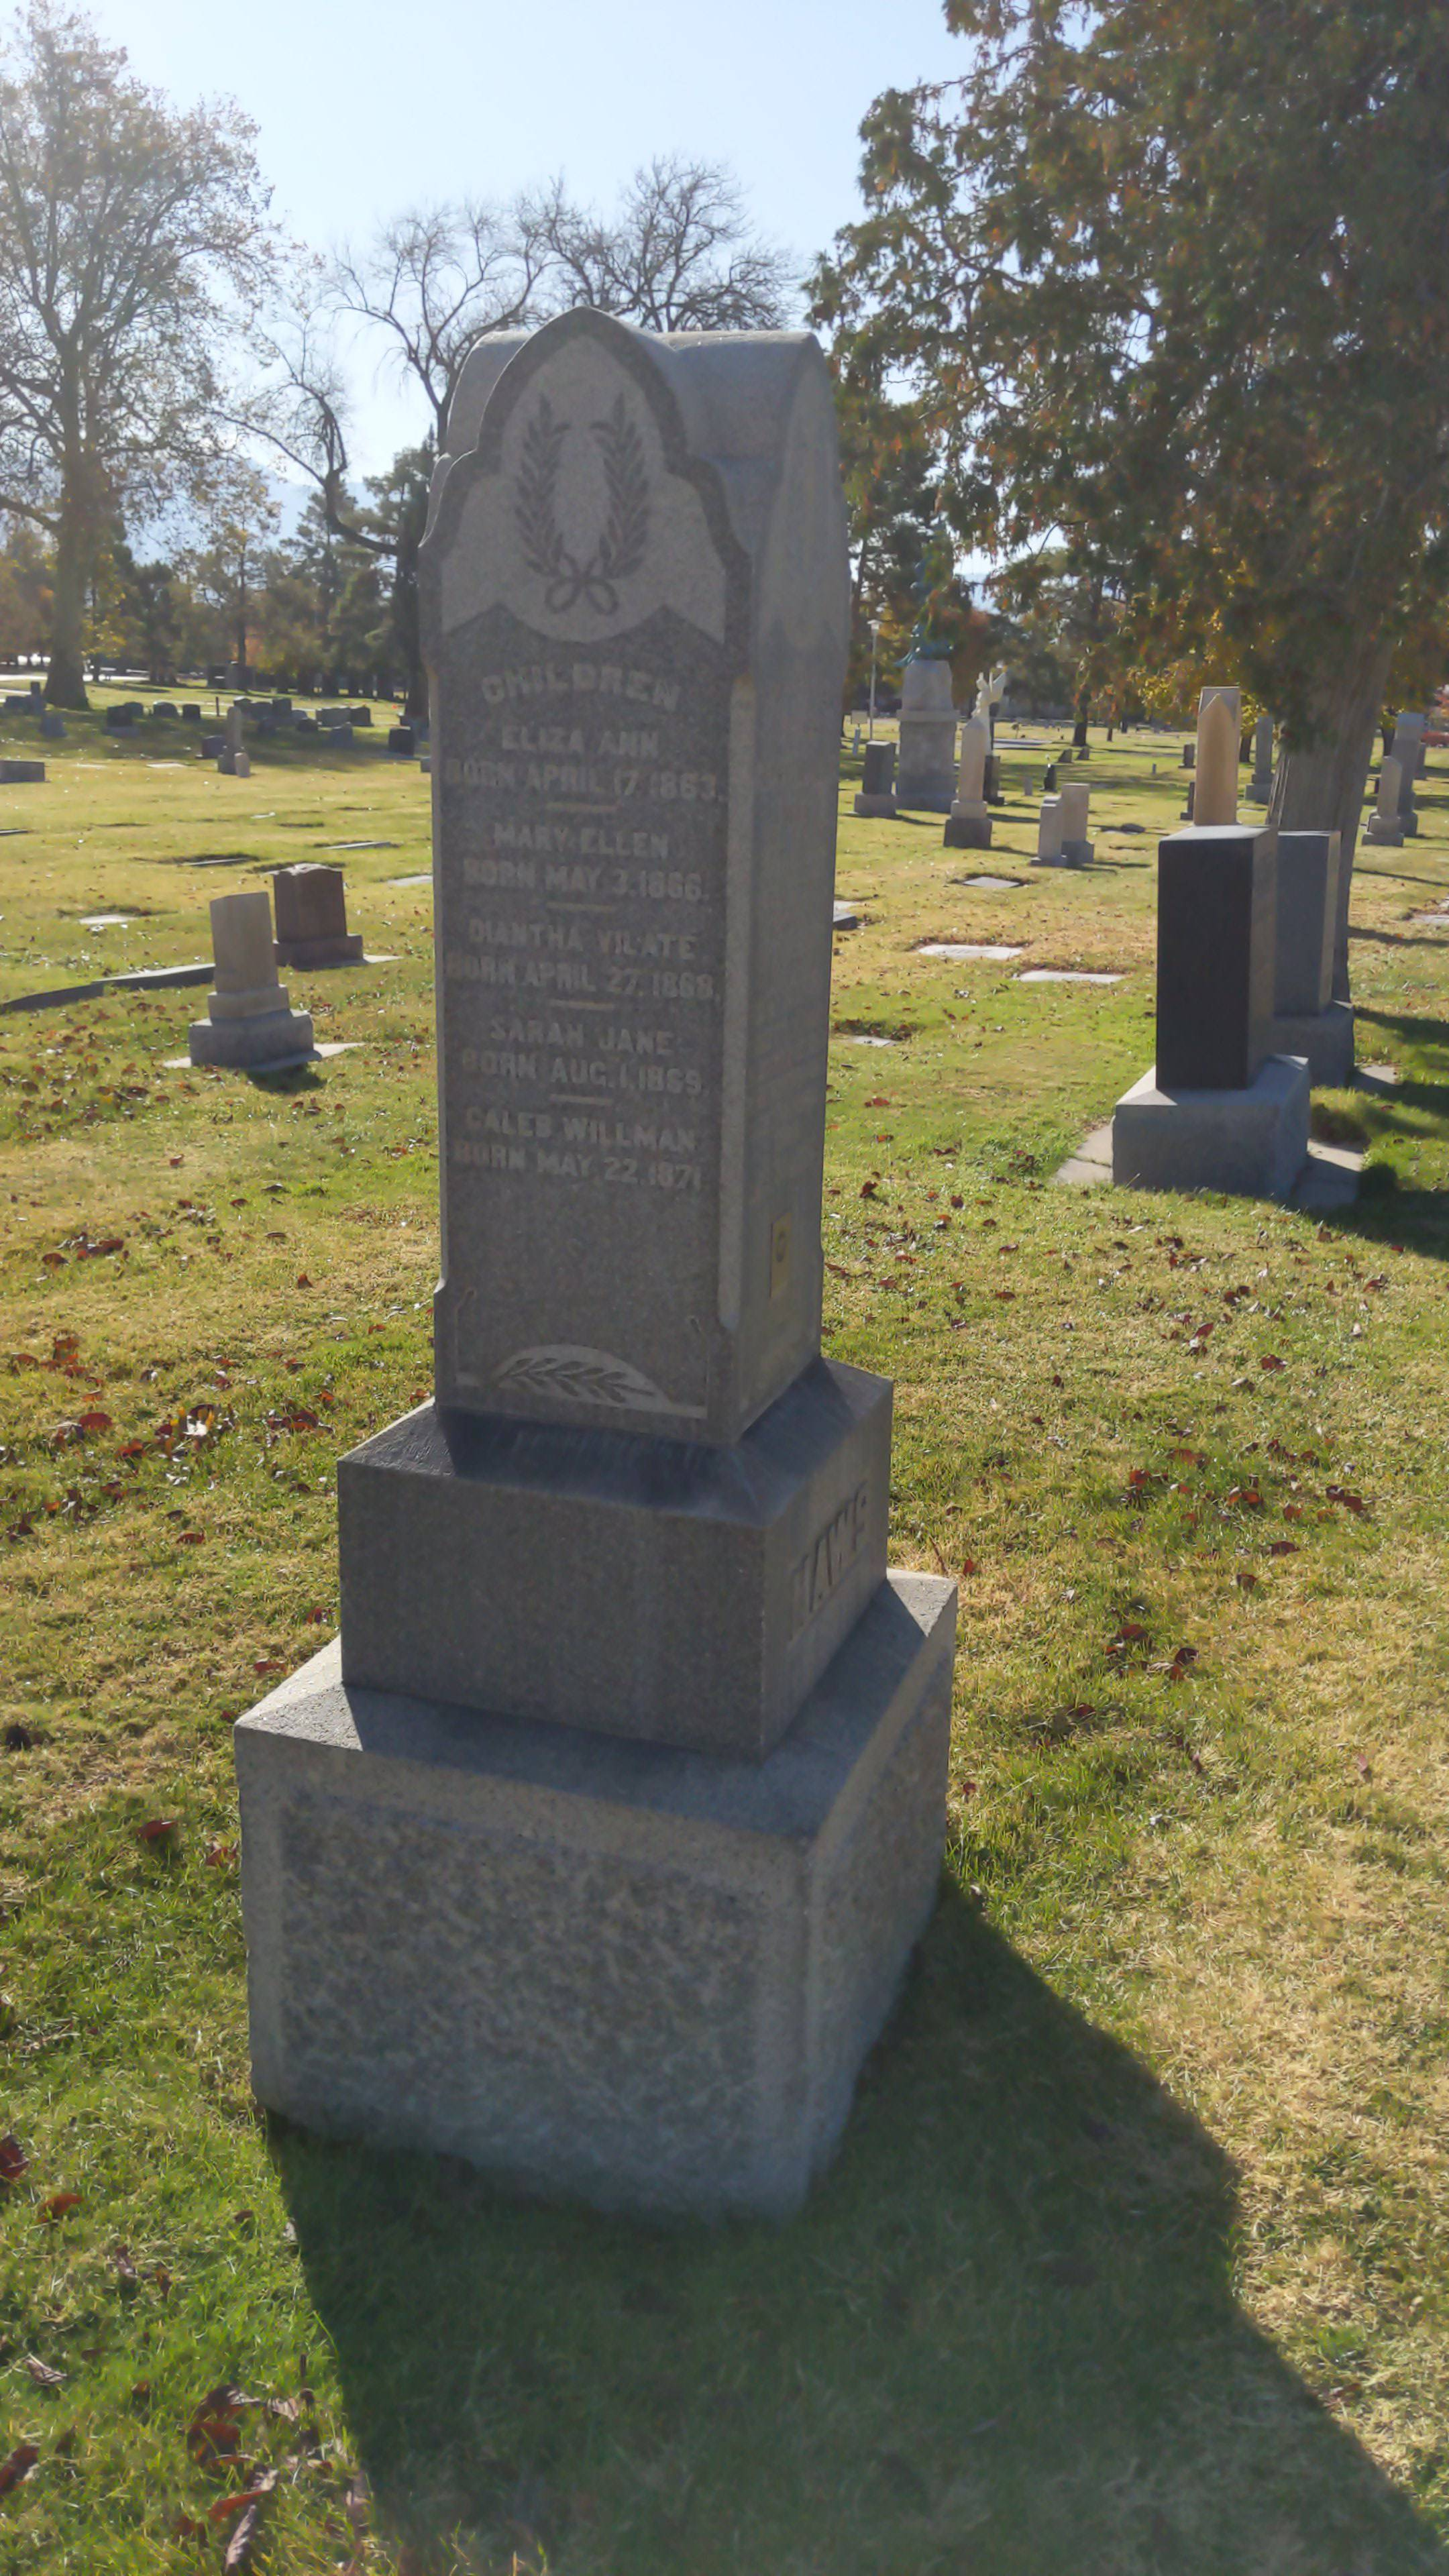obelisk: (336, 322, 888, 1744)
